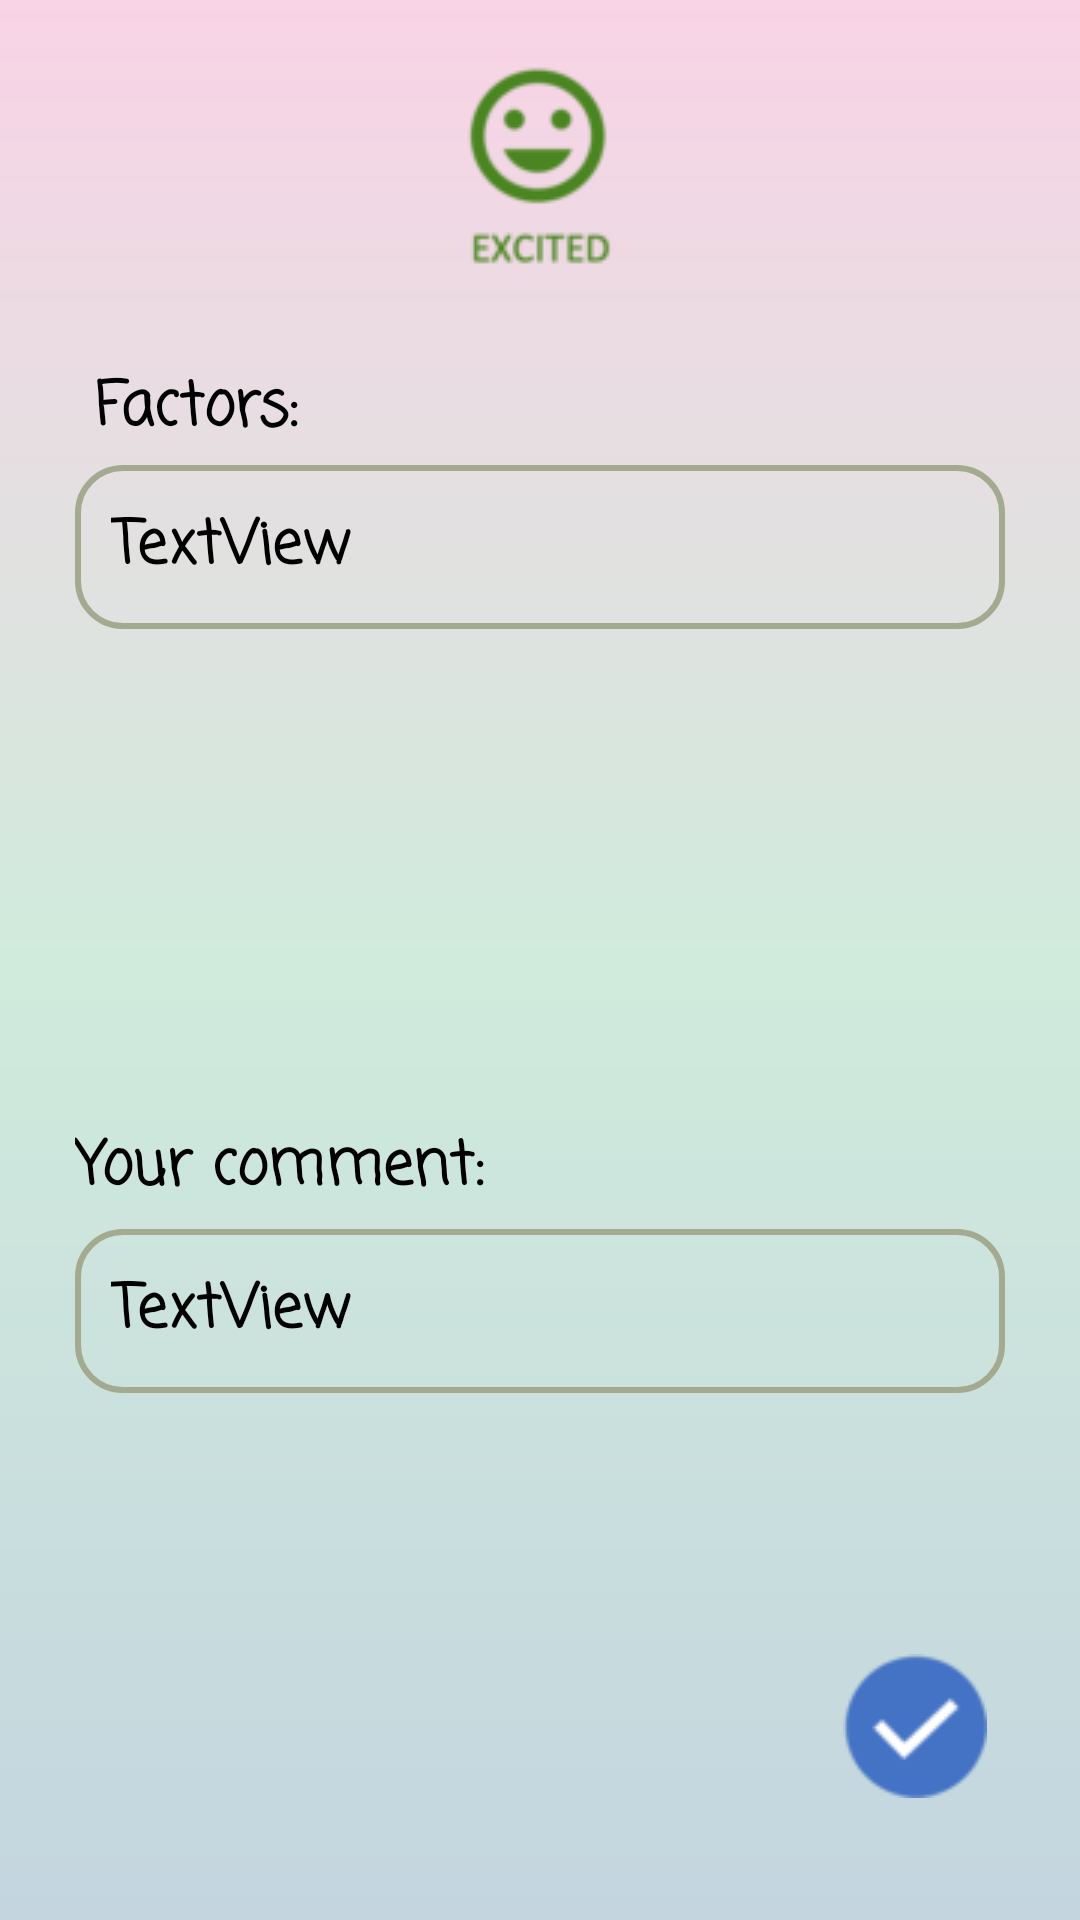

Screen size 1080x1920. Icon name, then its box in pixels as [x1,y1,x2,y2]:
check: [845,1656,987,1798]
